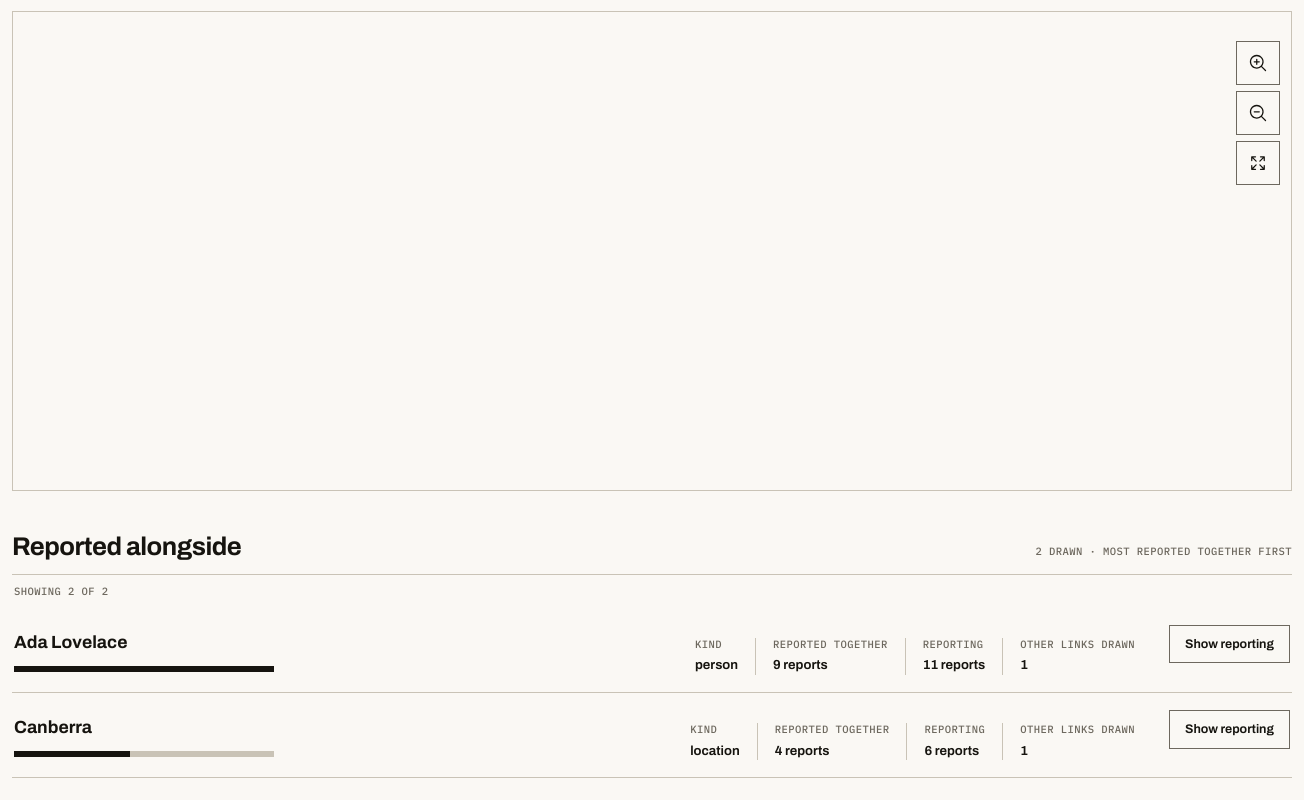
Test case: An Entity's neighbourhood — the reporting under one link › claims no bound when the link's whole reporting is on screen
(page scrolled)
Click the button "Show reporting" in the row of "Ada Lovelace": (1230, 644) [1169,625,1290,663]
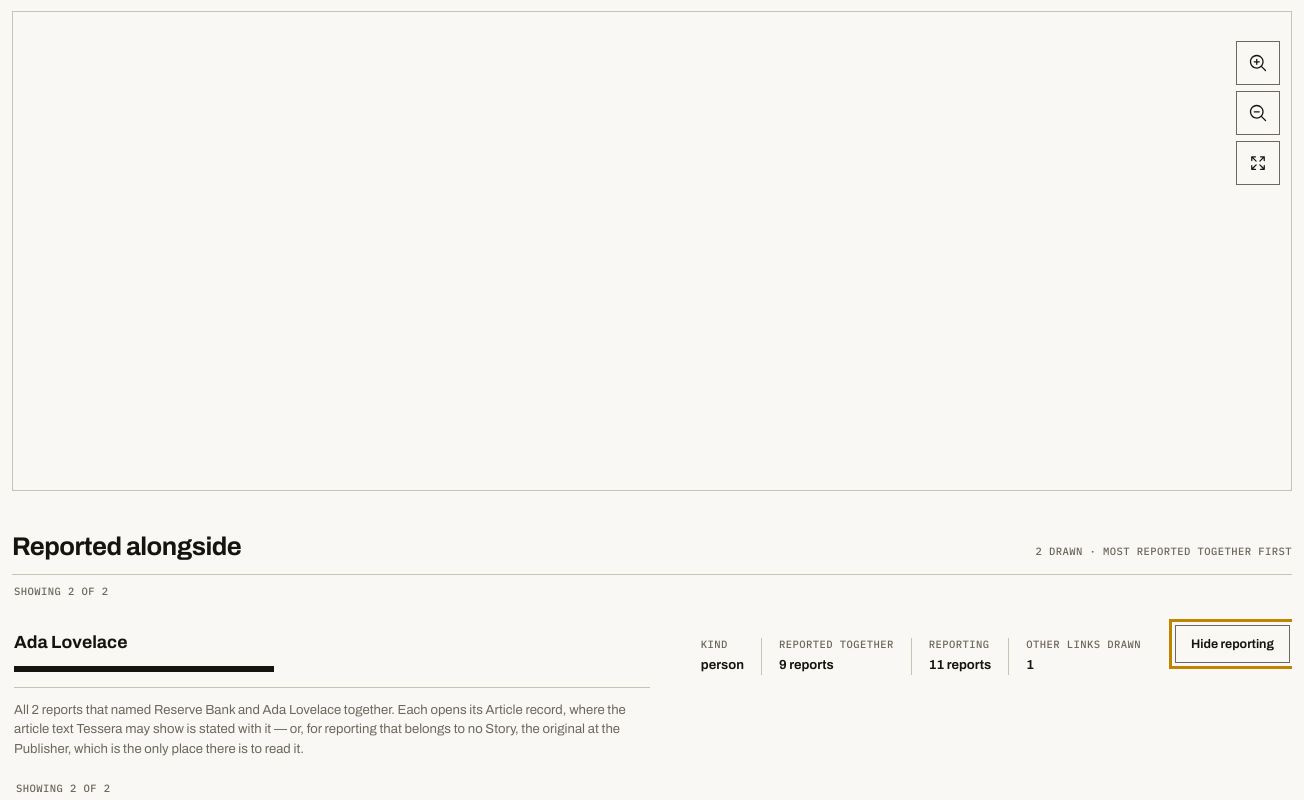
Result: the text "All 2 reports that named Reserve Bank and Ada Lovelace together" is shown at [14,702,395,717]
